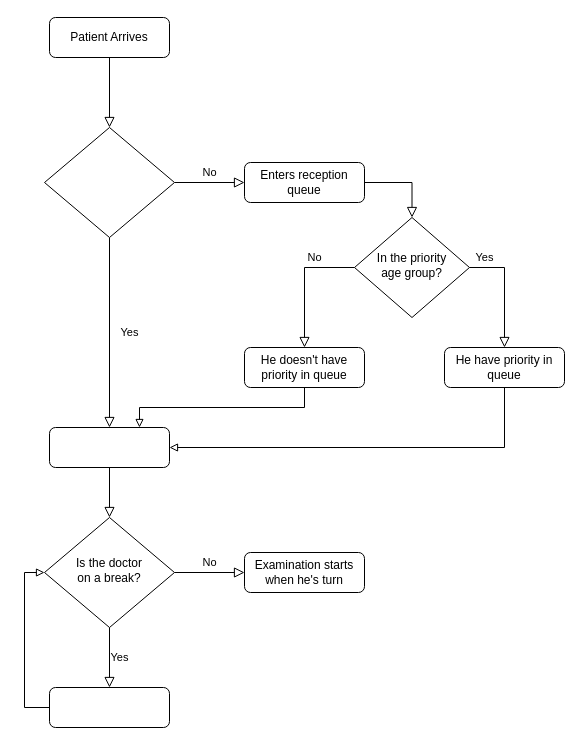
Image size: 582x745. Some labels were removed from this diagram. The shapes that lost their labels are listed below. From the top down, each one's centre as x and y in pixels, then its label:
At (x=109, y=182): "Does have an appointment?".
At (x=109, y=447): "Waits on the examination line".
At (x=109, y=707): "Wait for the doctor".
